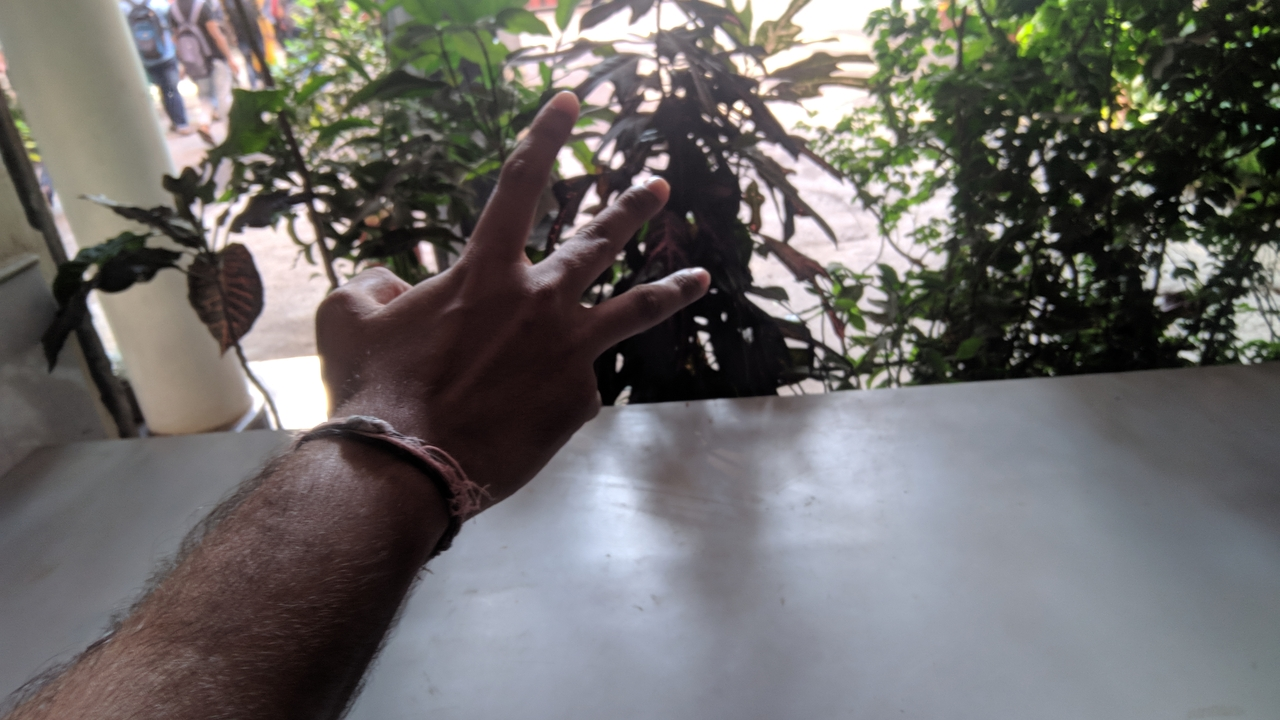fingertip: (528, 82, 582, 130), (634, 172, 677, 211), (676, 261, 718, 300)
